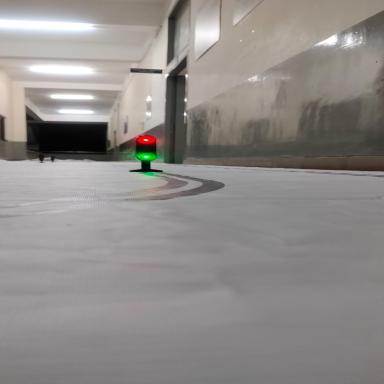green: (120, 150, 188, 174)
traffic red: (121, 133, 170, 150)
